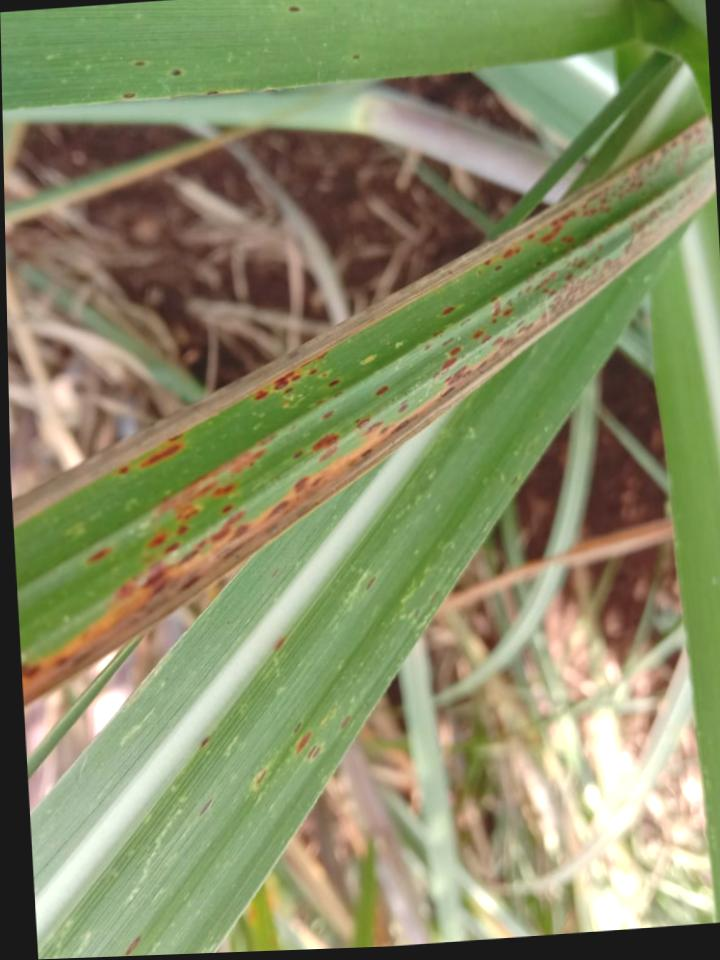Rust: (22, 169, 715, 707), (478, 116, 708, 275), (252, 347, 345, 411), (115, 428, 197, 479), (288, 719, 323, 763), (193, 792, 220, 824), (247, 761, 272, 793), (118, 931, 146, 956), (359, 571, 382, 597), (166, 66, 188, 80), (271, 634, 288, 652), (198, 734, 213, 752), (374, 383, 390, 399), (118, 90, 138, 102), (338, 713, 352, 730), (320, 408, 336, 421), (130, 59, 146, 69), (201, 89, 221, 97), (347, 52, 363, 61), (286, 7, 301, 15)
